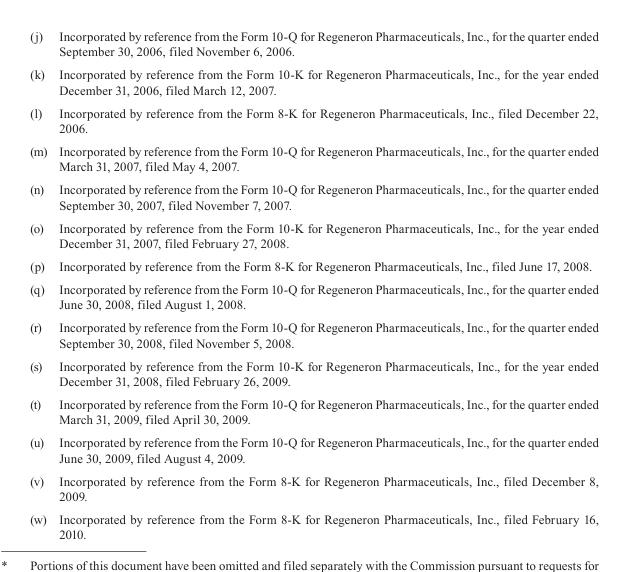table: (29, 28, 597, 540)
table column: (52, 28, 597, 540), (29, 28, 52, 540)
table row: (29, 100, 597, 139), (29, 215, 597, 254), (29, 353, 597, 392), (29, 468, 597, 507), (29, 62, 597, 100), (29, 139, 597, 177), (29, 177, 597, 215), (29, 277, 597, 315), (29, 315, 597, 353), (29, 392, 597, 430), (29, 430, 597, 468), (29, 28, 597, 62), (29, 507, 597, 540), (29, 254, 597, 277)
